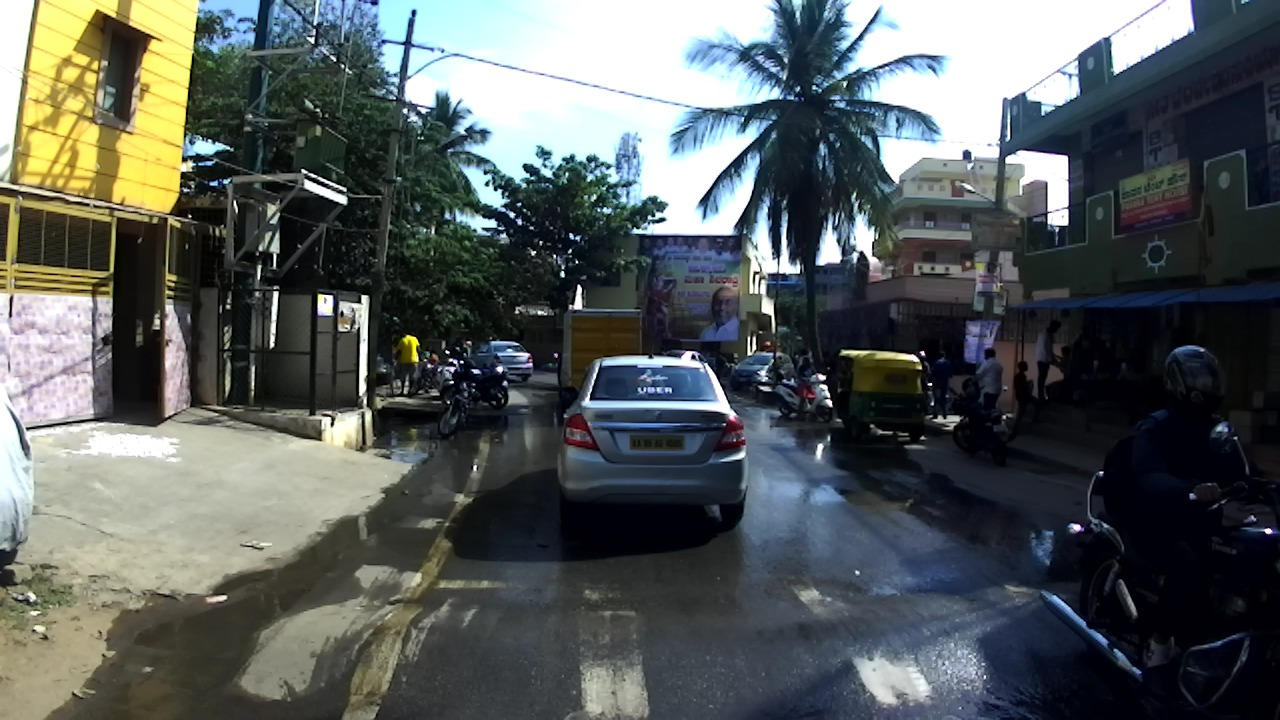autorickshaw: (829, 348, 930, 441)
car: (558, 338, 755, 530), (470, 341, 534, 382), (729, 353, 793, 389), (662, 350, 710, 362)
motorcycle: (1038, 424, 1280, 720), (950, 387, 1011, 466), (772, 365, 832, 419), (440, 364, 508, 411), (436, 369, 474, 438), (439, 346, 465, 405), (752, 363, 786, 406), (406, 355, 438, 397), (924, 382, 951, 411)
person: (1008, 359, 1042, 429), (1036, 319, 1062, 403), (392, 327, 424, 395), (1072, 323, 1098, 404), (973, 345, 1004, 409), (929, 351, 953, 419), (1044, 344, 1072, 400), (1172, 311, 1196, 348), (795, 349, 814, 373), (715, 352, 726, 380), (793, 354, 799, 368)
rider: (1100, 343, 1270, 705), (796, 355, 817, 420), (914, 350, 931, 418), (489, 351, 503, 375), (461, 335, 474, 357), (452, 337, 465, 358), (421, 347, 430, 361), (431, 349, 439, 363), (659, 345, 666, 356), (491, 335, 499, 342)
truck: (552, 309, 642, 405)
vehicle fallback: (1, 390, 32, 562), (421, 338, 445, 362)
